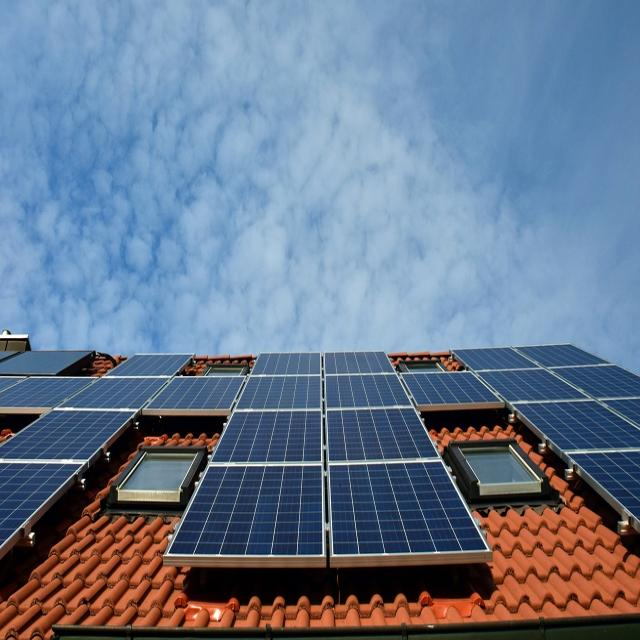clean-solar-panel: (165, 352, 491, 567), (0, 354, 191, 559), (456, 344, 640, 530)
